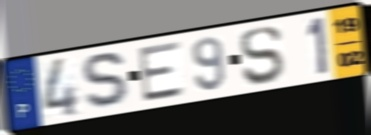1: (304, 15, 330, 78)
4: (40, 56, 84, 119)
9: (190, 35, 227, 93)
E: (136, 39, 188, 105)
S: (79, 51, 134, 112), (237, 24, 284, 89)
